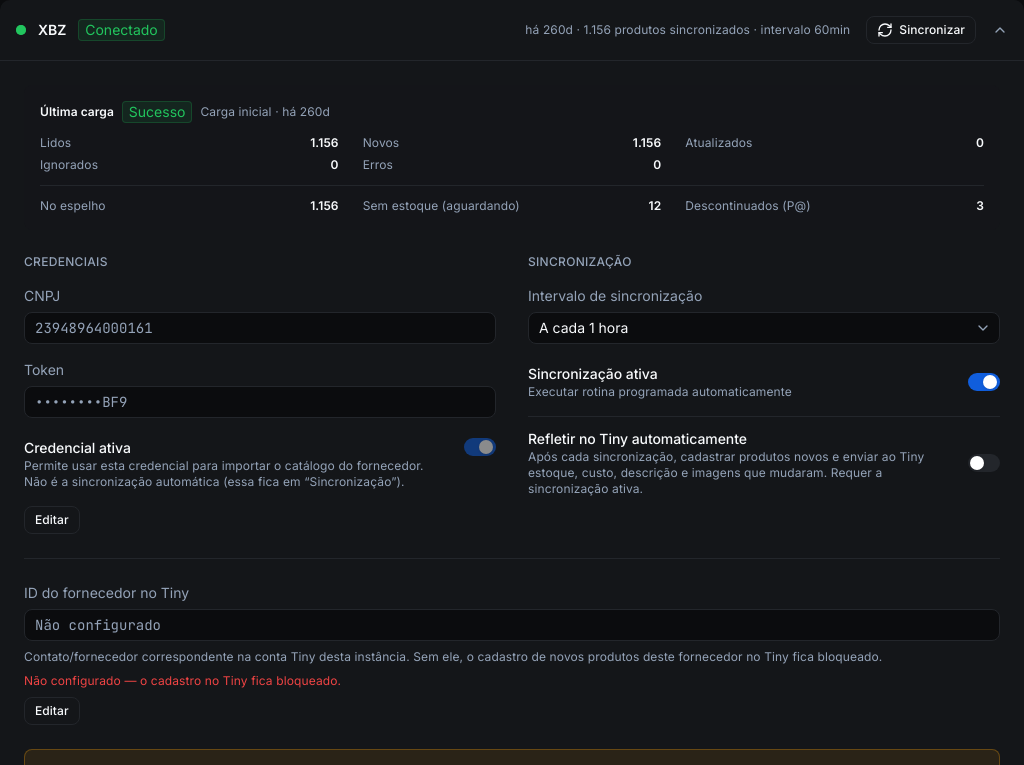
Test: FornecedorAcordeao › valor não numérico não dispara a mutation e mostra erro
Click the button with aria-label "Editar ID do fornecedor no Tiny": (52, 711) [24,697,80,725]
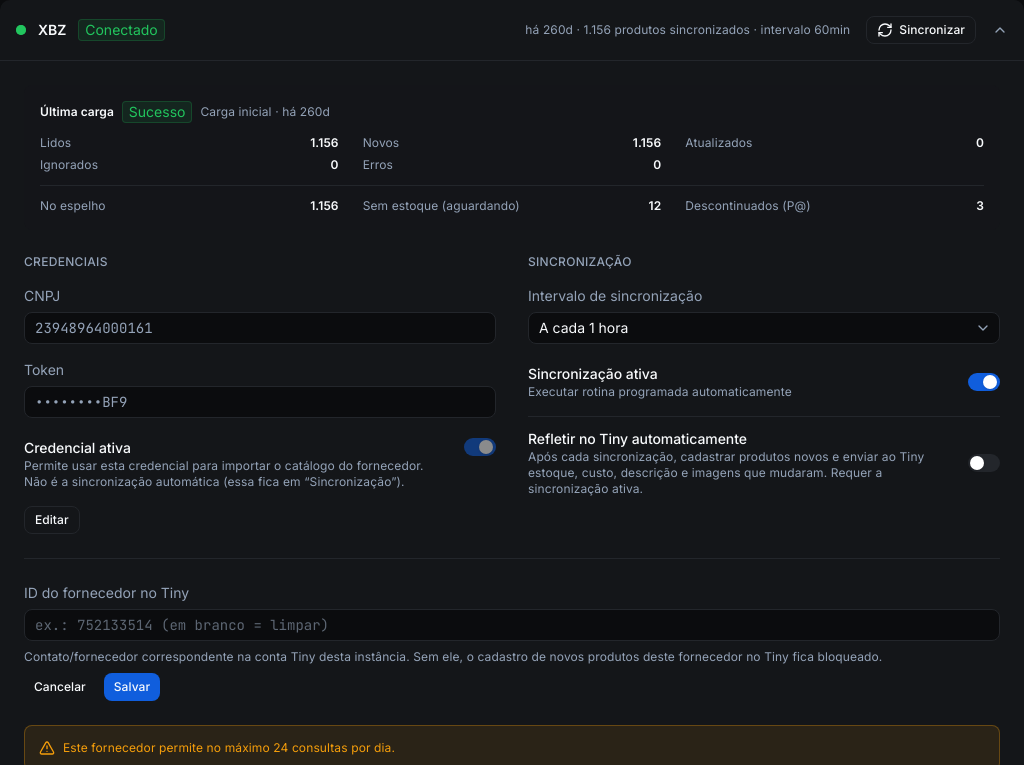
In the field labelled "ID do fornecedor no Tiny": (512, 625) [24,609,1000,641], type "abc"
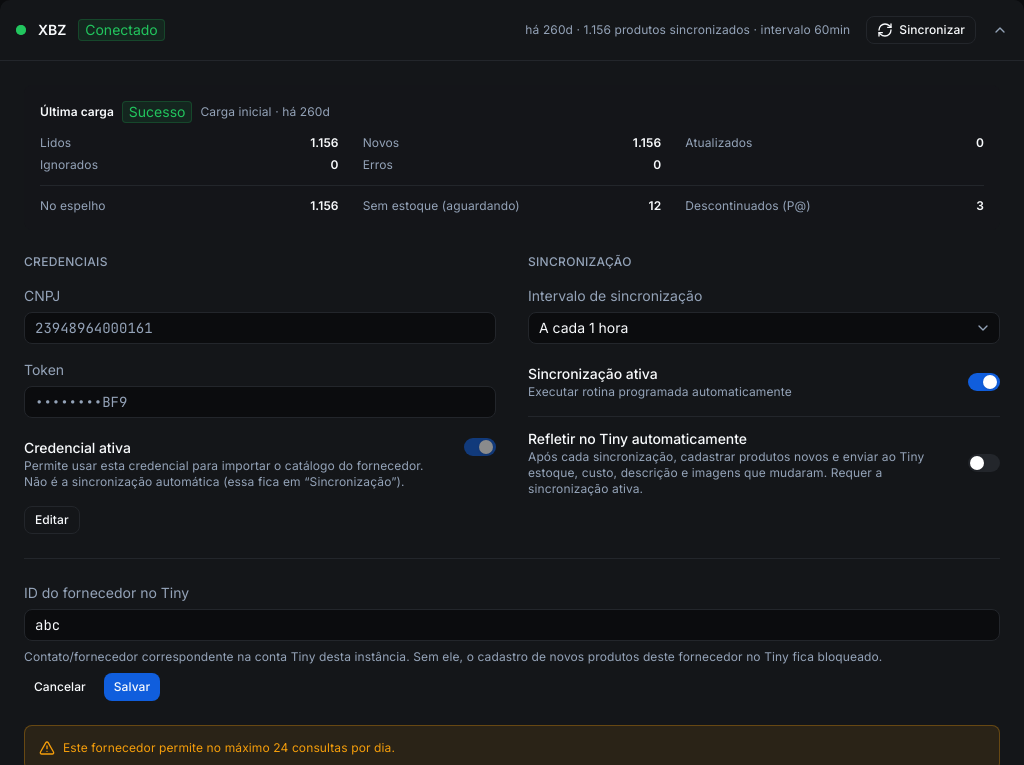
Click the button with aria-label "Salvar ID do fornecedor no Tiny": (132, 687) [104,673,160,701]
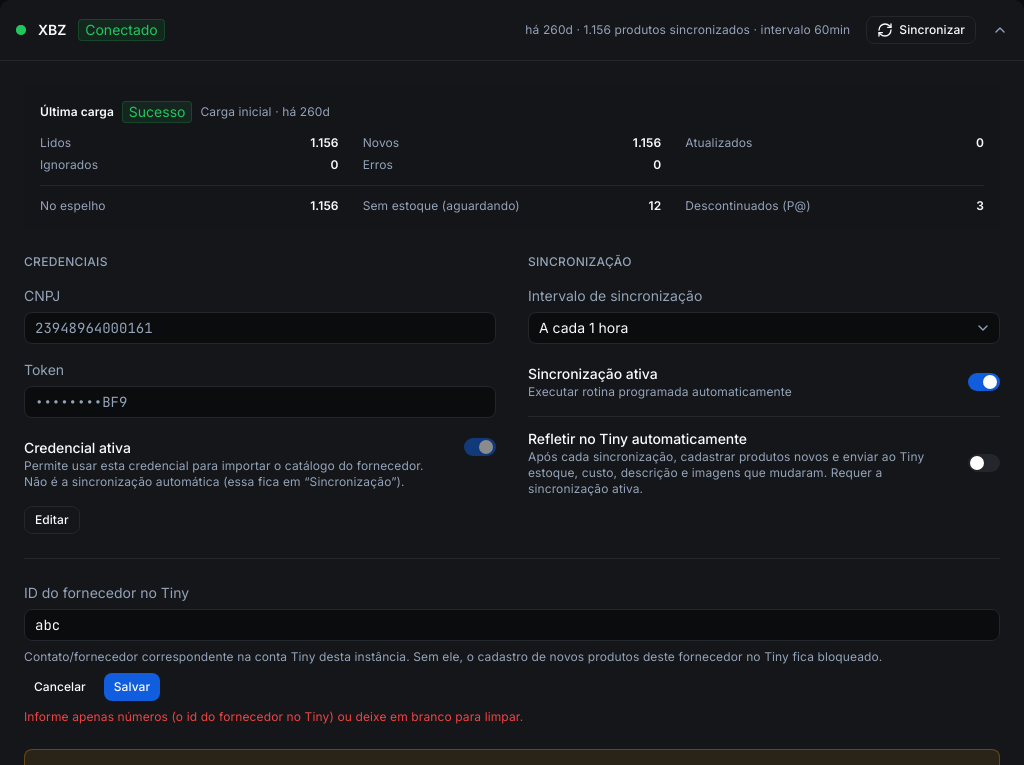
Now the message shows "apenas números", box [24,709,523,724]
